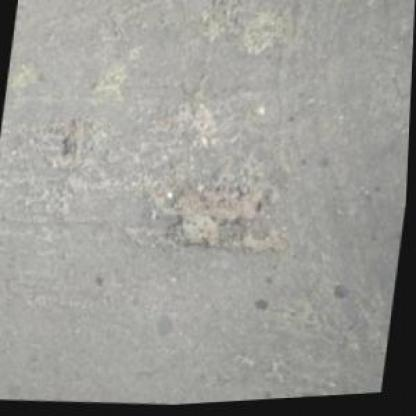pothole: (165, 161, 287, 265), (61, 119, 85, 157)
